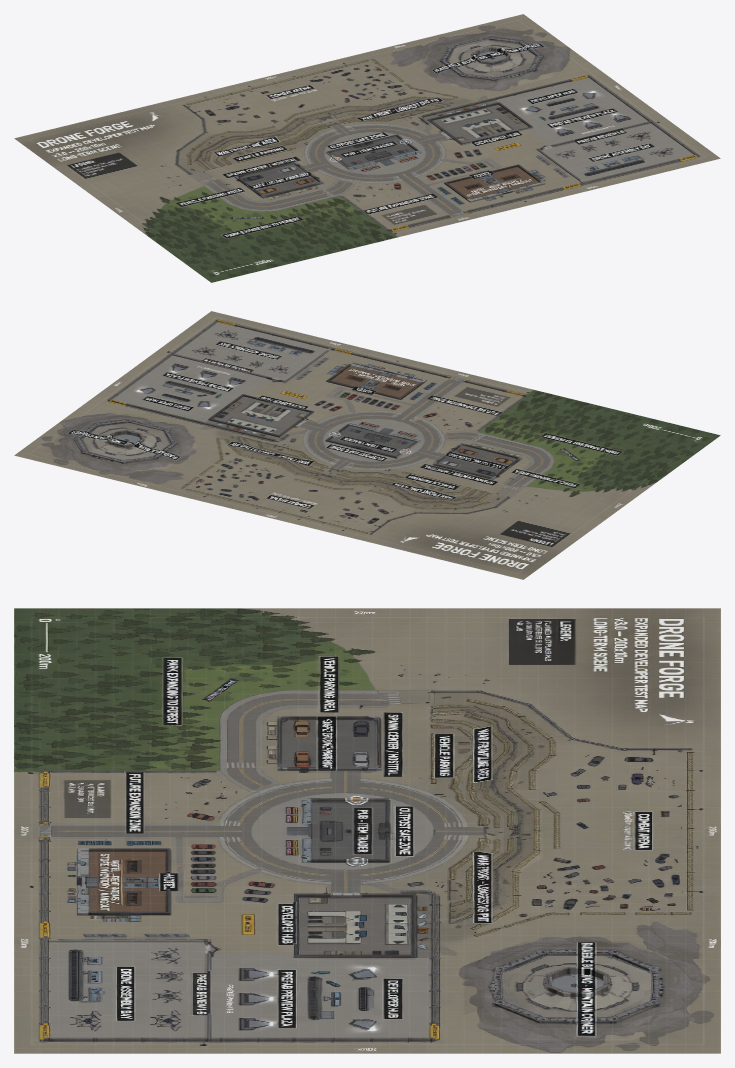
File: Map_Drone_Forge_v1.glb
The picture shows the model from 3 angles, top to bottom: view 1: azimuth 30°, elevation 25°; view 2: azimuth 150°, elevation 25°; view 3: azimuth 270°, elevation 25°; orthographic projection. The views are drawn at different scales.
Parts seen in each view (by area): view 1: Map_V1_underconstruction; view 2: Map_V1_underconstruction; view 3: Map_V1_underconstruction.
Part boxes in pixels (box(x1,y1,x2,y2)): Map_V1_underconstruction: box(14, 14, 720, 282); Map_V1_underconstruction: box(14, 311, 720, 579); Map_V1_underconstruction: box(14, 608, 720, 1053).
Bounding box in the file's own units: 540 × 7 × 362.
Materials: 1 (1 with a texture image).
